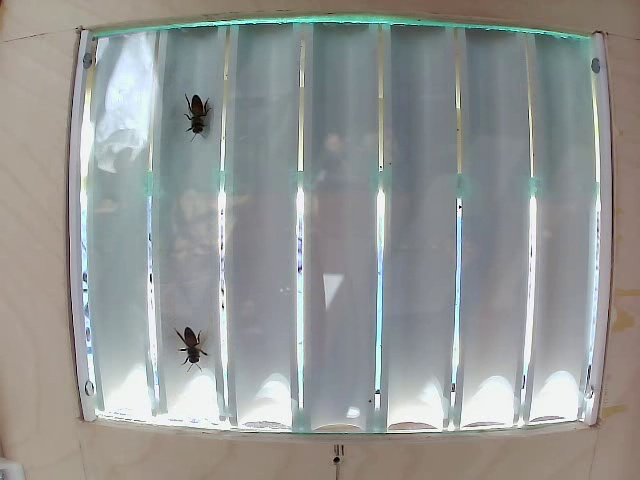bee: (174, 81, 220, 149), (165, 306, 214, 365)
